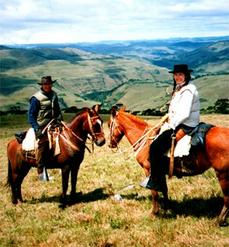person: (139, 62, 202, 200), (28, 76, 64, 183)
